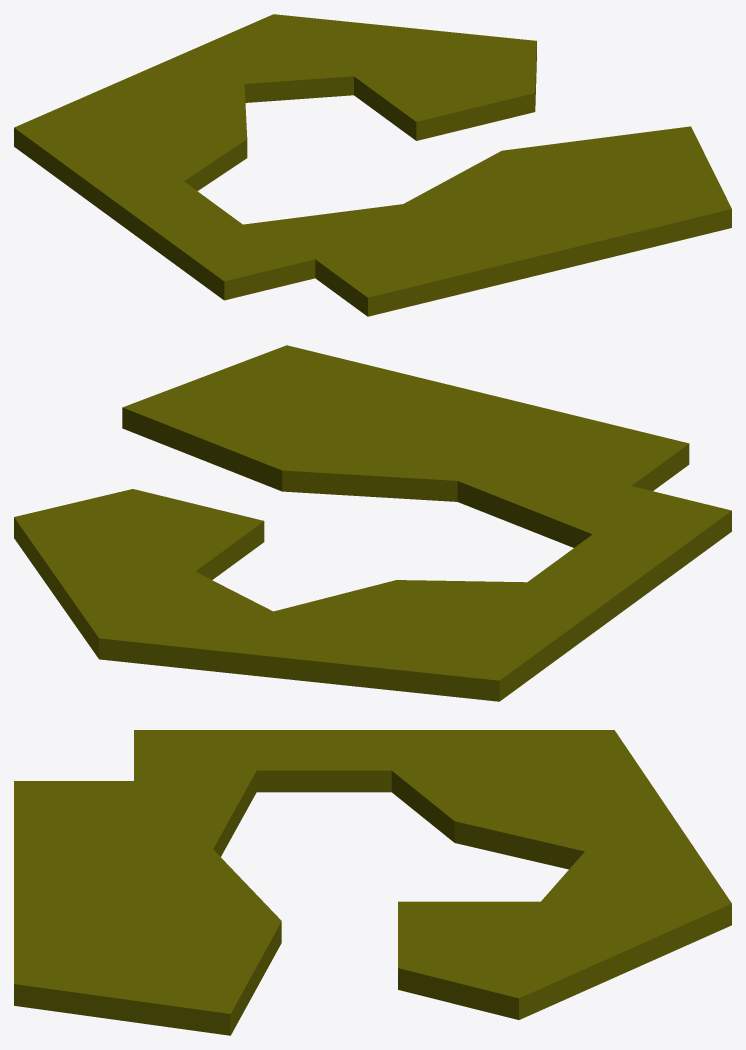
The model's file is x_0_boloto_15_1_rmstrd.fbx.
The picture shows the model from 3 angles, top to bottom: view 1: azimuth 30°, elevation 25°; view 2: azimuth 150°, elevation 25°; view 3: azimuth 270°, elevation 25°; orthographic projection. The views are drawn at different scales.
Parts seen in each view (by area): view 1: x_0_boloto_15_1_rmstrd1; view 2: x_0_boloto_15_1_rmstrd1; view 3: x_0_boloto_15_1_rmstrd1.
Boxes of the visible parts, x1,y1,x2,y2 form: x_0_boloto_15_1_rmstrd1: [14, 14, 731, 316]; x_0_boloto_15_1_rmstrd1: [14, 345, 731, 701]; x_0_boloto_15_1_rmstrd1: [14, 730, 731, 1035].
Bounding box in the file's own units: 5.59 × 0.2 × 5.98.
